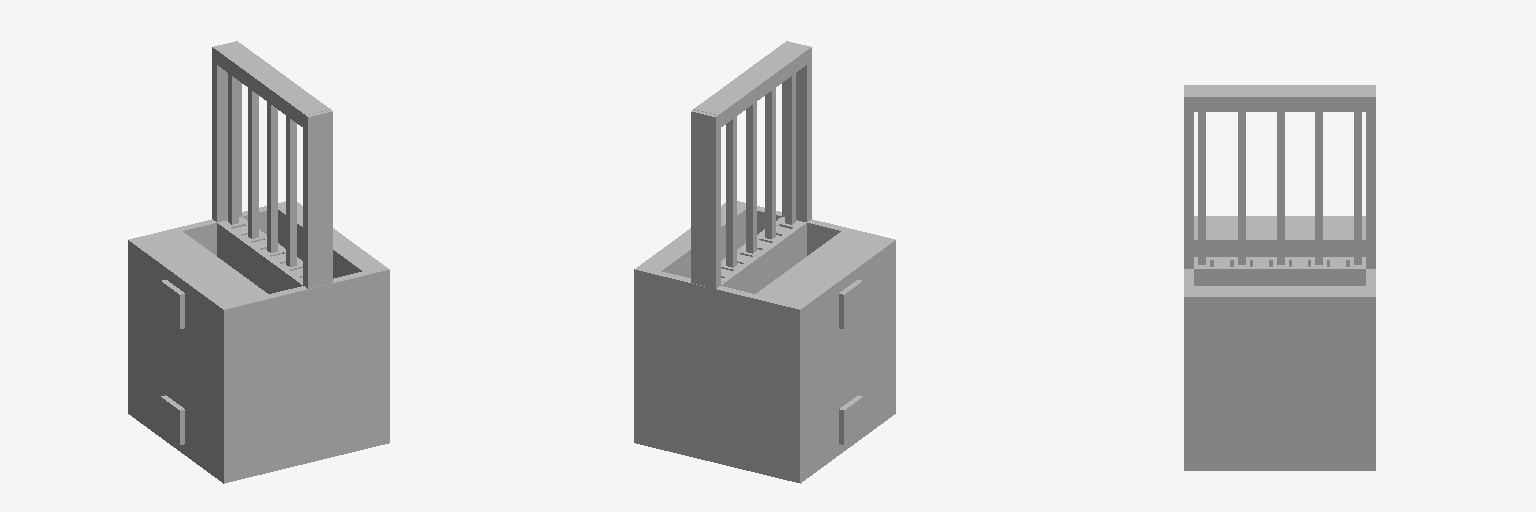
3 views of the same model, side by side, from view 1: azimuth 30°, elevation 25°; view 2: azimuth 150°, elevation 25°; view 3: azimuth 270°, elevation 25° (orthographic).
Parts seen in each view (by area): view 1: 立方体; view 2: 立方体; view 3: 立方体.
Part boxes in pixels (x1,y1,x2,y2): 立方体: (128, 41, 389, 483); 立方体: (634, 41, 895, 483); 立方体: (1184, 85, 1375, 470).
Bounding box in the file's own units: 3.1 × 5.97 × 3.01.